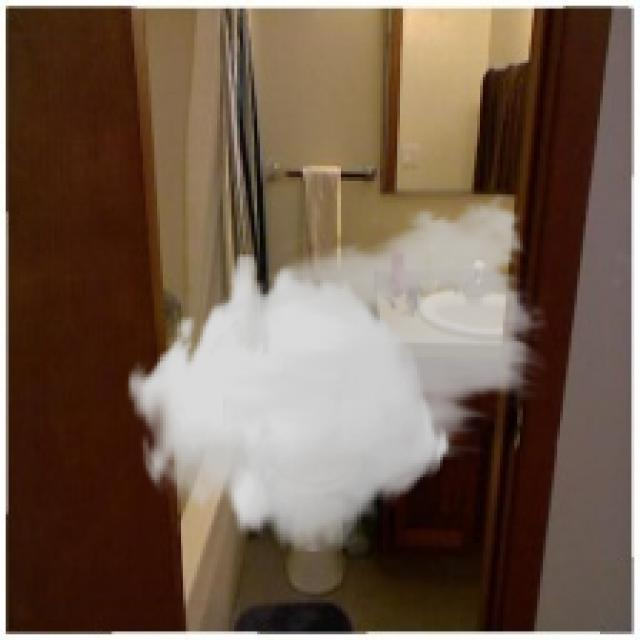Smoke: (126, 186, 548, 552)
